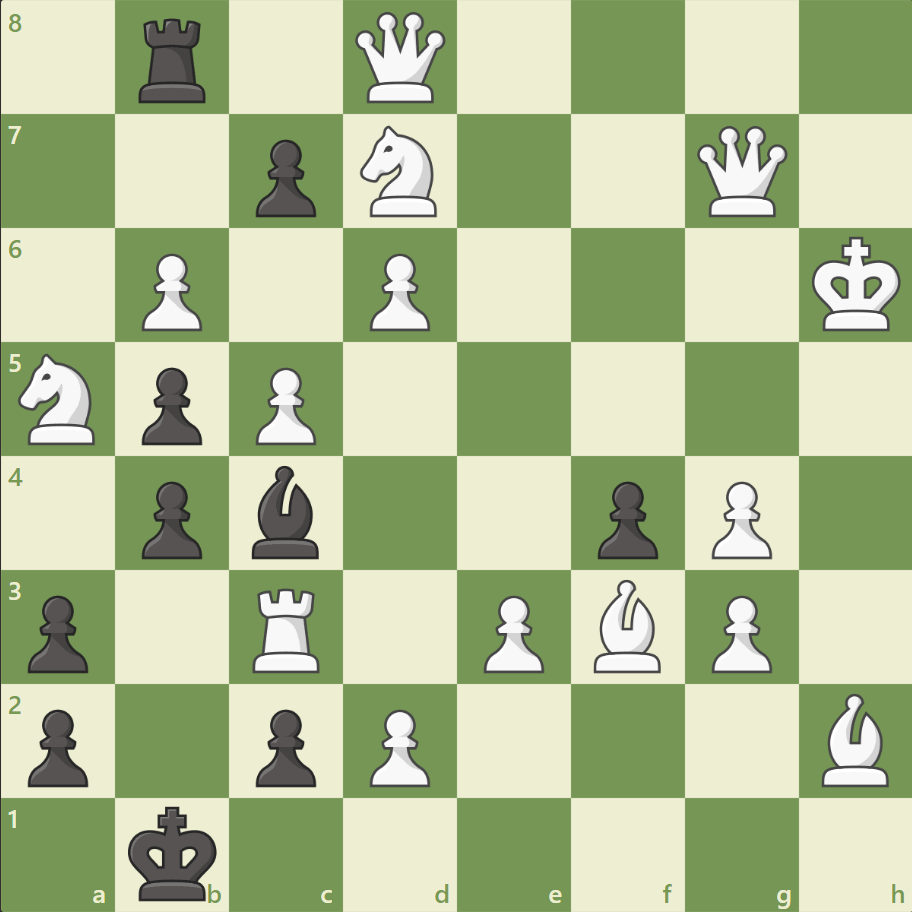B: (812, 687, 896, 790), (585, 574, 669, 676)
K: (806, 231, 906, 339)
N: (351, 121, 449, 223), (11, 348, 108, 450)
P: (133, 246, 208, 337), (247, 359, 322, 450), (701, 473, 776, 564), (474, 586, 549, 677), (701, 586, 776, 677), (361, 246, 435, 337), (361, 700, 435, 791)
Q: (691, 122, 790, 222), (351, 9, 450, 108)
R: (246, 579, 329, 676)
b: (244, 460, 328, 563)
k: (124, 798, 224, 906)
p: (247, 132, 322, 223), (133, 359, 208, 450), (133, 473, 208, 564), (20, 586, 95, 677), (20, 700, 95, 791), (247, 700, 322, 791), (588, 473, 662, 564)
r: (133, 12, 215, 109)
